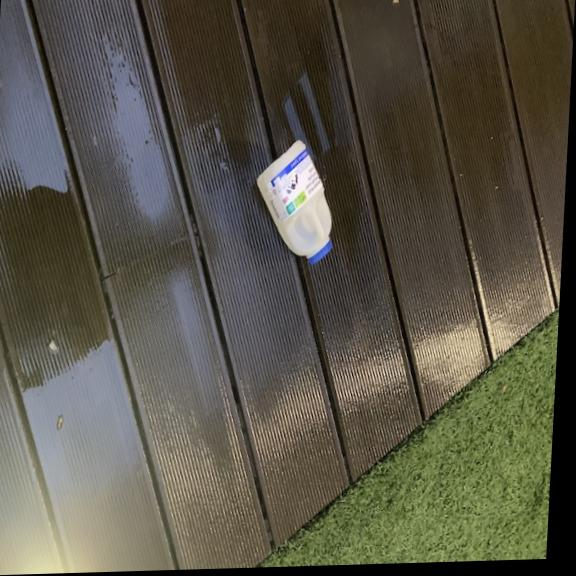Plastik: (249, 137, 340, 269)
